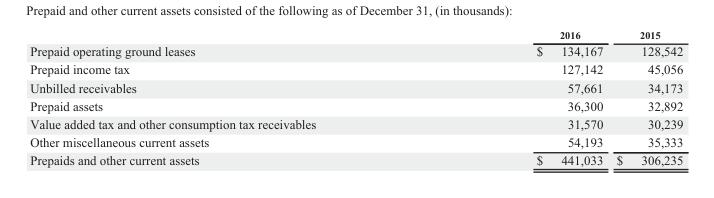table: (29, 28, 682, 166)
table column: (29, 28, 425, 166), (425, 28, 609, 166), (609, 28, 682, 166)
table column header: (29, 28, 682, 42)
table row: (29, 42, 682, 60), (29, 60, 682, 78), (29, 78, 682, 96), (29, 96, 682, 114), (29, 114, 682, 132), (29, 132, 682, 150), (29, 150, 682, 166), (29, 28, 682, 42)
